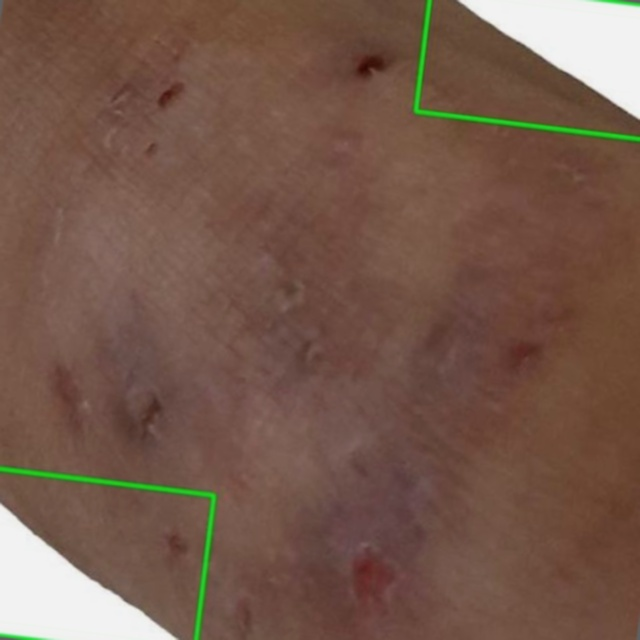Tinea Corporis: (0, 469, 213, 639), (415, 0, 639, 139)
